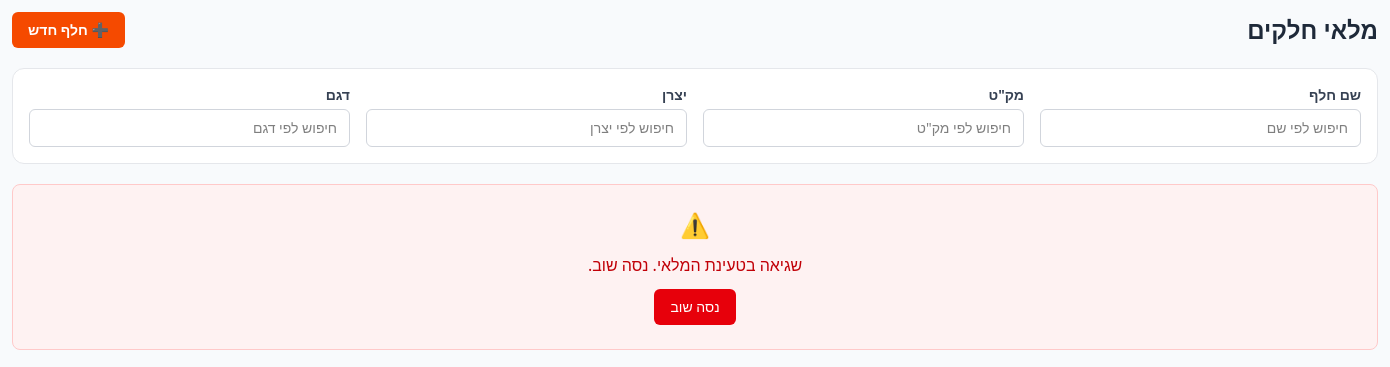
PartsPage — inventory list › shows a Hebrew error state with retry when loading fails
Expected: the text "שגיאה בטעינת המלאי. נסה שוב." is shown, top-left (588, 253), bottom-right (802, 277)
Click the button "נסה שוב". click: (695, 307)
box: top-left (654, 289), bottom-right (736, 325)
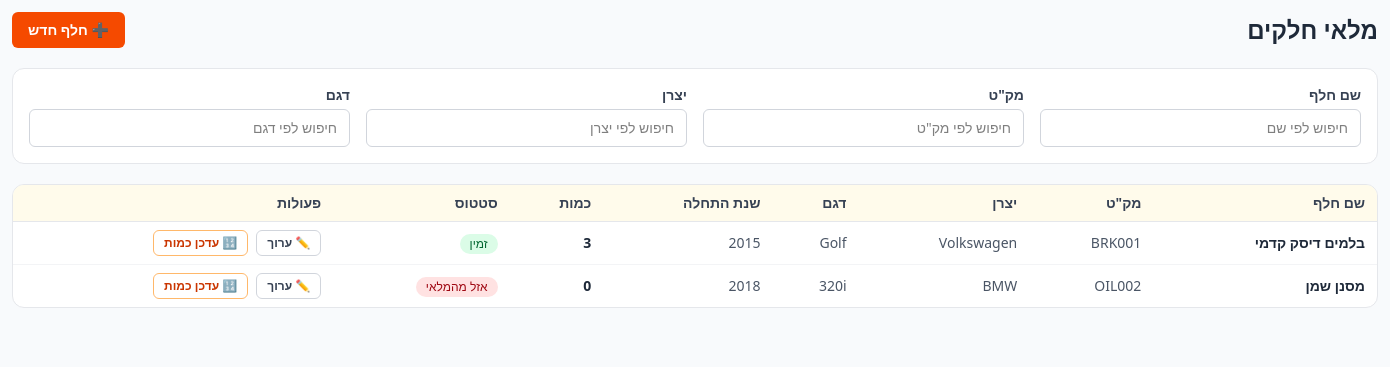
Expected: the table is shown, top-left (13, 185), bottom-right (1377, 307)
